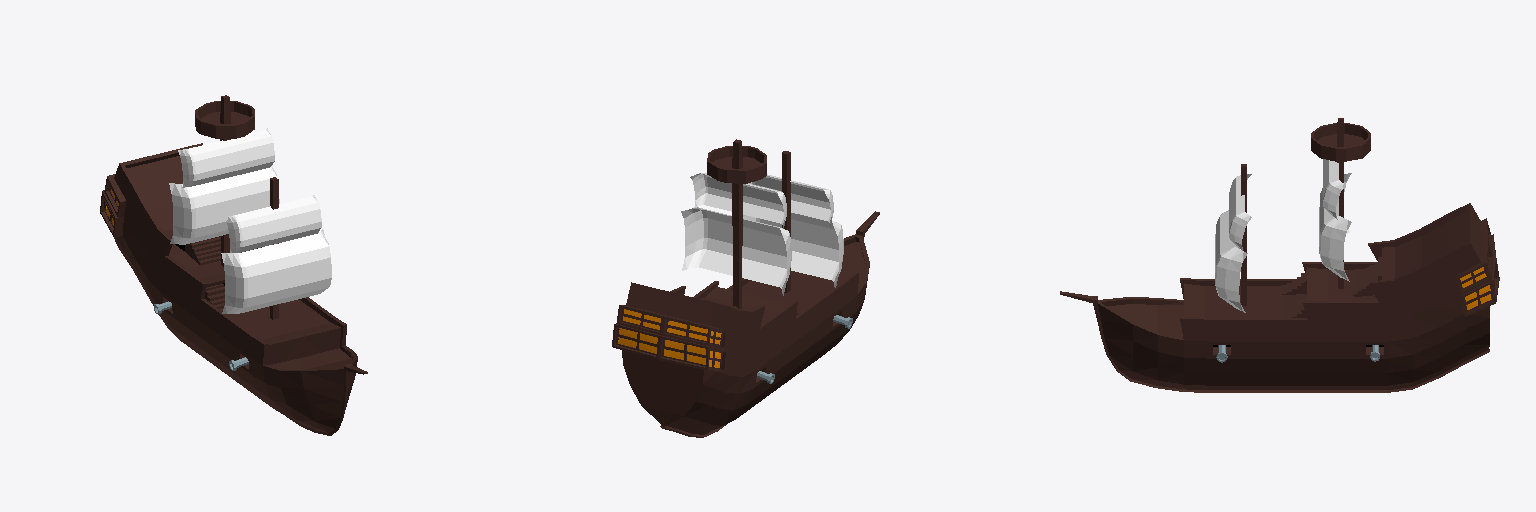
The picture shows the model from 3 angles: view 1: azimuth 30°, elevation 25°; view 2: azimuth 150°, elevation 25°; view 3: azimuth 270°, elevation 25°; orthographic projection.
Visible parts, largest first — view 1: Cube; view 2: Cube; view 3: Cube.
Boxes of the visible parts, <box> form: Cube: <box>100,95,367,435</box>; Cube: <box>612,139,879,437</box>; Cube: <box>1060,118,1499,392</box>.
Size of the model in its own units: 2.59 by 6.3 by 9.17.
Materials: 1 (1 with a texture image).